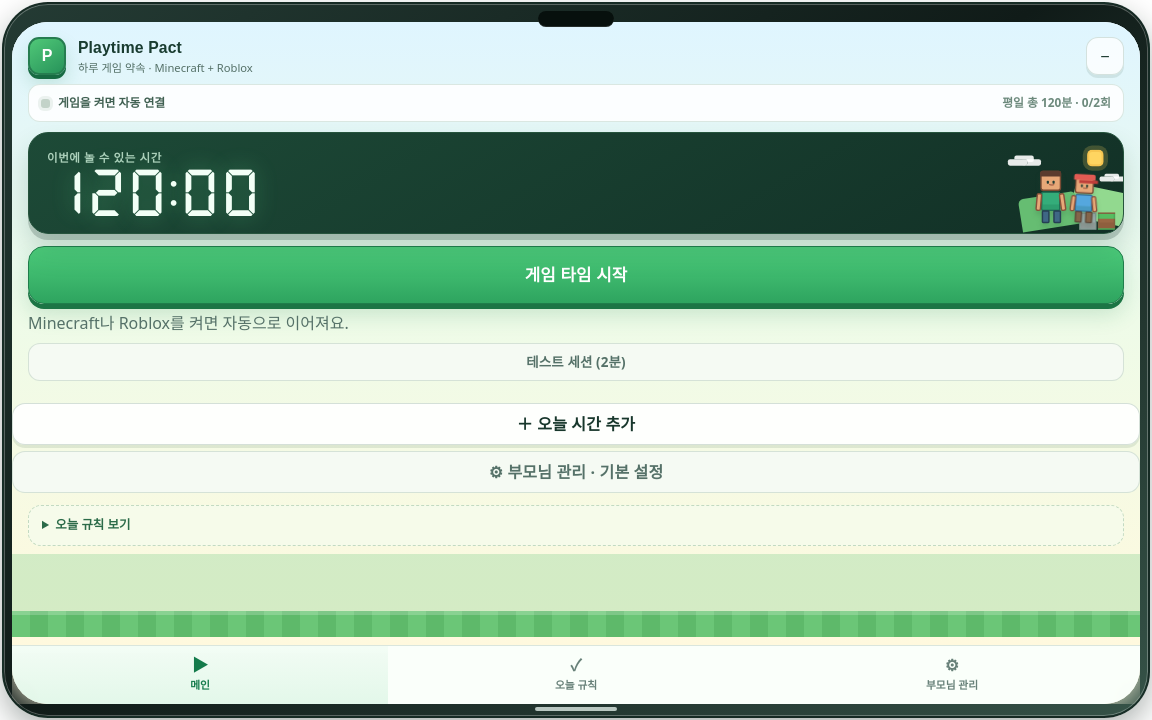
renderer interactions › opens quick time directly, reuses a live parent session, and locks explicitly
What coordinates should you click on to do the following:
click the button "＋ 오늘 시간 추가"
I would click on:
 (576, 424)
Its box is [12,403,1140,445].
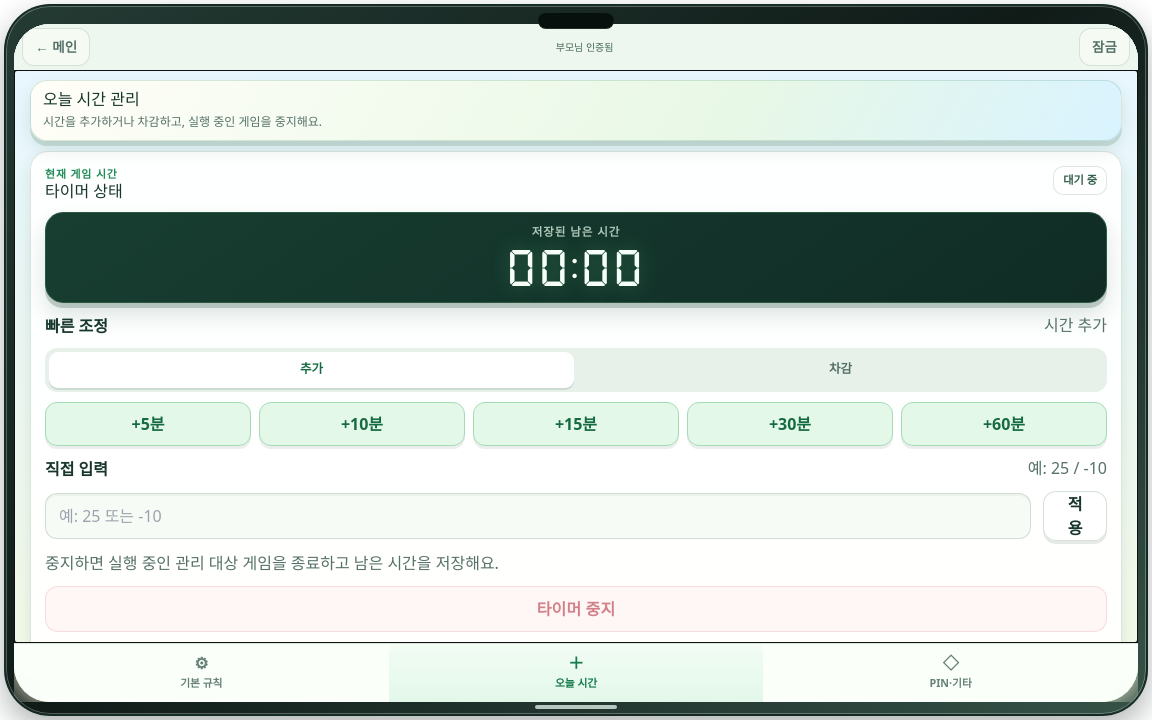
What coordinates should you click on to do the following:
click the button "+15분"
I would click on:
 (576, 424)
Its box is [473,402,679,446].
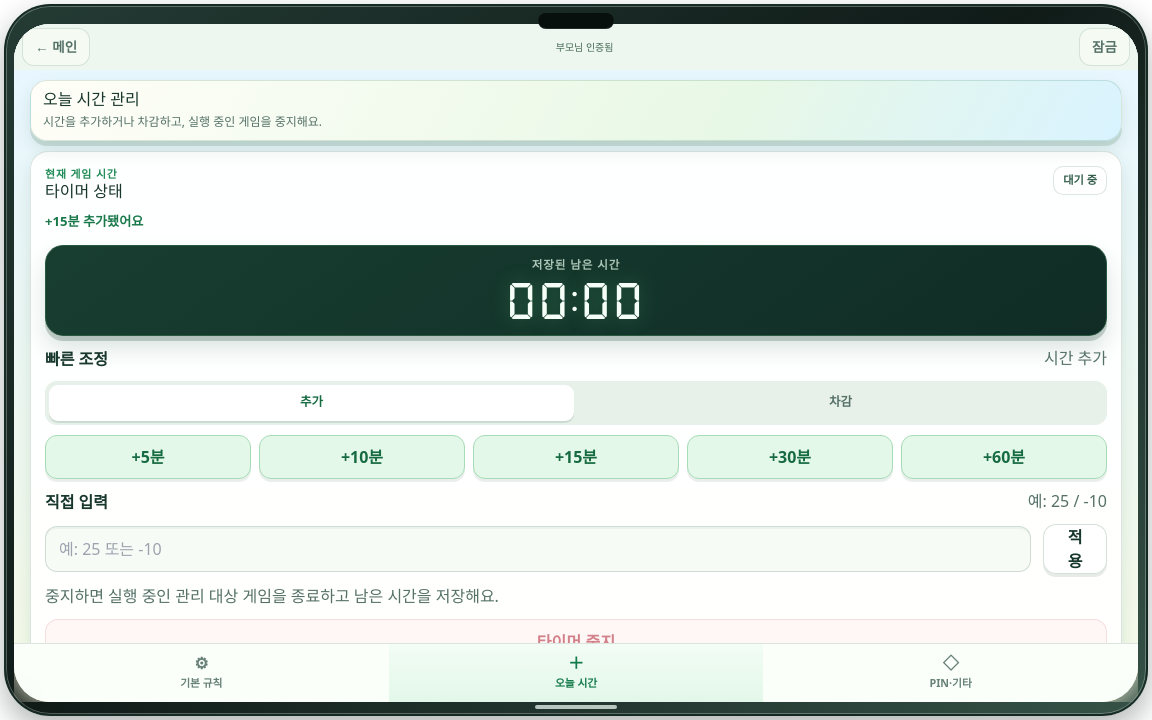
What coordinates should you click on to do the following:
click the button "⚙ 기본 규칙"
I would click on:
 (201, 673)
Its box is [14,644,389,702].
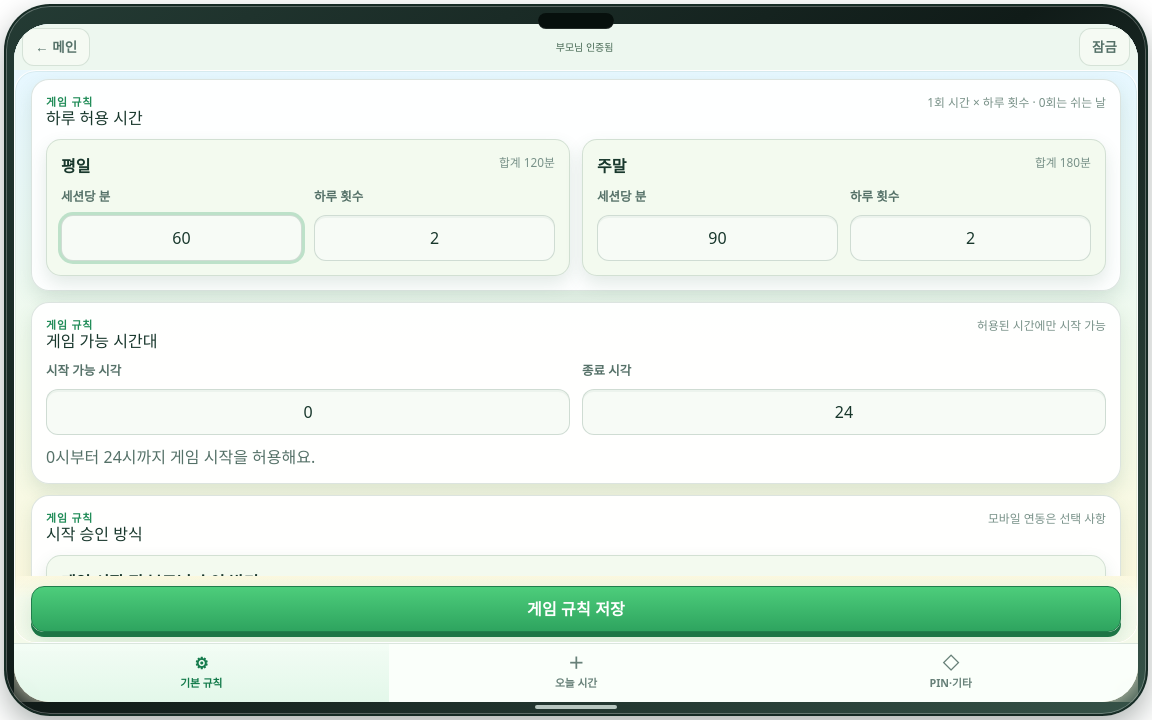
Expected: the button "게임 규칙 저장" is shown, [31,586,1121,632]
What coordinates should you click on to do the following:
click the button "잠금"
I would click on:
 (1104, 47)
Its box is [1079,28,1130,66].
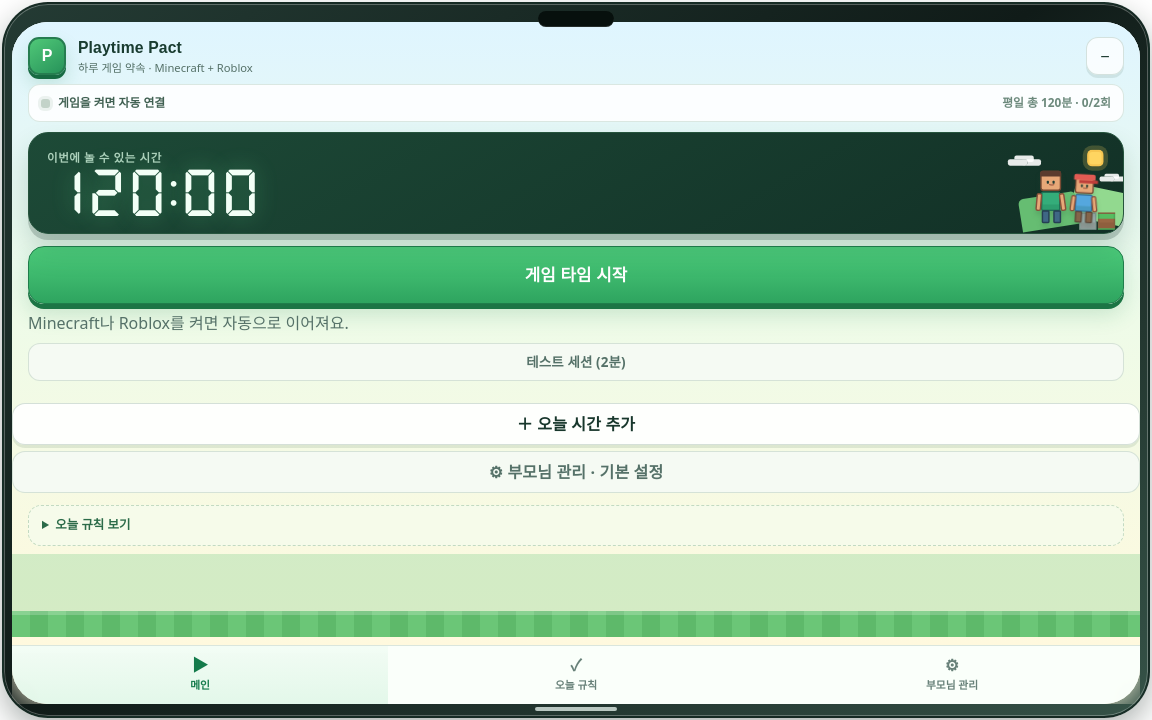
Expected: the text "+15분" is not shown
What coordinates should you click on to do the following:
click the button "⚙ 부모님 관리"
I would click on:
 (952, 675)
Its box is [764,646,1140,704].
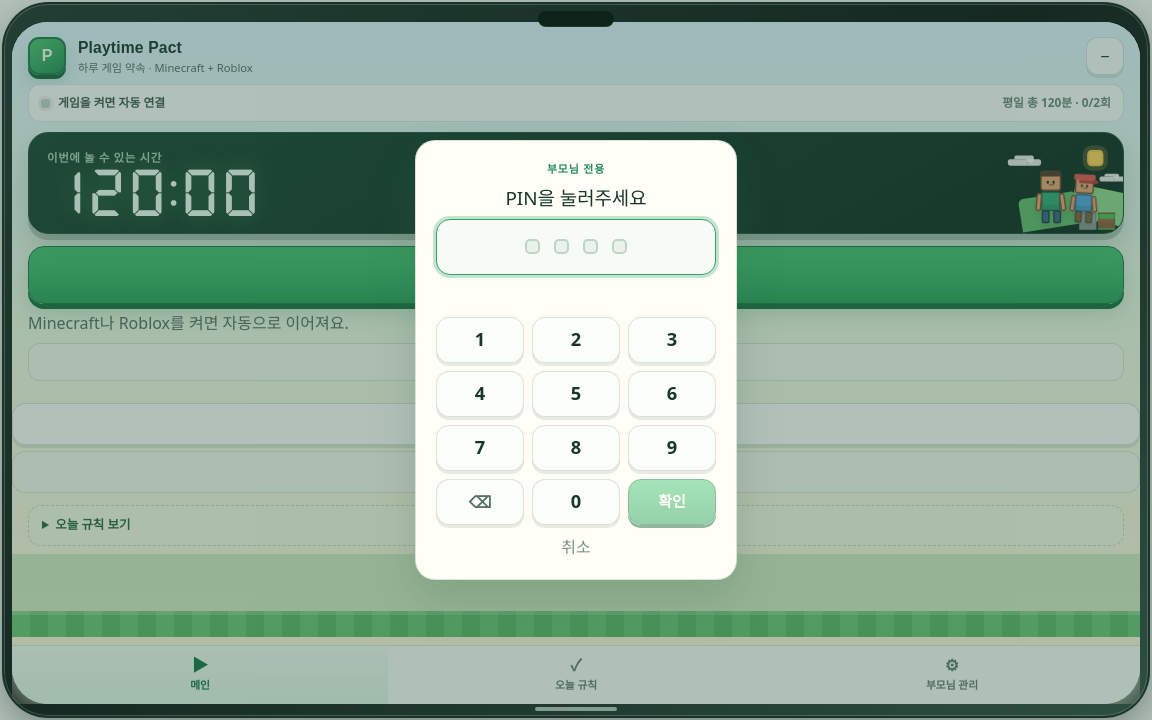
Expected: the password field named "부모님 4자리 PIN" is shown, [437,220,715,274]
